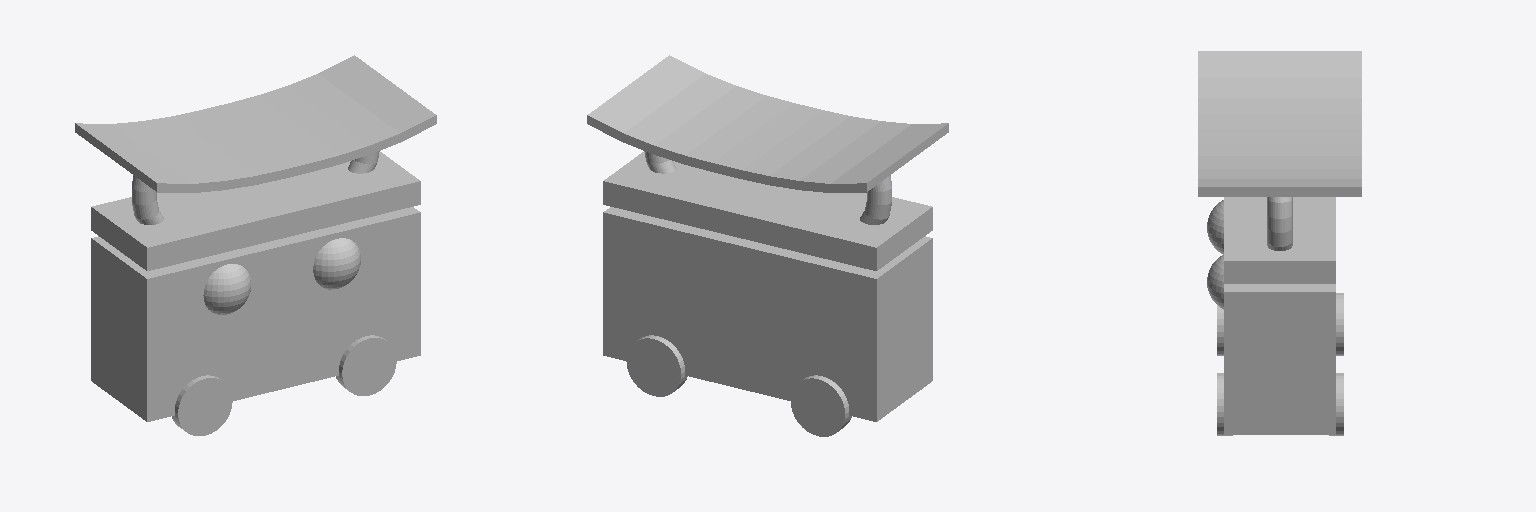
File: sgorbio.obj
3 views of the same model, side by side, from view 1: azimuth 30°, elevation 25°; view 2: azimuth 150°, elevation 25°; view 3: azimuth 270°, elevation 25° (orthographic).
Parts seen in each view (by area): view 1: Cube, Cube.001, Cube.002, Cylinder.004, Cylinder.005, Sphere.001, Sphere, Cylinder.003; view 2: Cube, Cube.001, Cube.002, Cylinder.001, Cylinder, Cylinder.003; view 3: Cube, Cube.002, Cube.001, Cylinder.002, Sphere, Sphere.001.
Part boxes in pixels (bbox=[...]): Cube: bbox=[91, 152, 420, 421]; Cube.001: bbox=[215, 55, 436, 175]; Cube.002: bbox=[75, 107, 296, 192]; Cylinder.004: bbox=[172, 375, 232, 435]; Cylinder.005: bbox=[336, 335, 396, 395]; Sphere.001: bbox=[313, 238, 360, 289]; Sphere: bbox=[203, 264, 250, 314]; Cylinder.003: bbox=[132, 175, 163, 224]; Cube: bbox=[603, 152, 932, 421]; Cube.001: bbox=[587, 55, 808, 175]; Cube.002: bbox=[727, 107, 948, 192]; Cylinder.001: bbox=[626, 335, 687, 396]; Cylinder: bbox=[791, 375, 851, 436]; Cylinder.003: bbox=[860, 175, 891, 224]; Cube: bbox=[1224, 197, 1335, 434]; Cube.002: bbox=[1198, 51, 1361, 136]; Cube.001: bbox=[1198, 137, 1361, 196]; Cylinder.002: bbox=[1267, 197, 1292, 250]; Sphere: bbox=[1207, 200, 1223, 254]; Sphere.001: bbox=[1207, 255, 1223, 309].
Bounding box in the file's own units: 2.04 × 1.91 × 1.04.